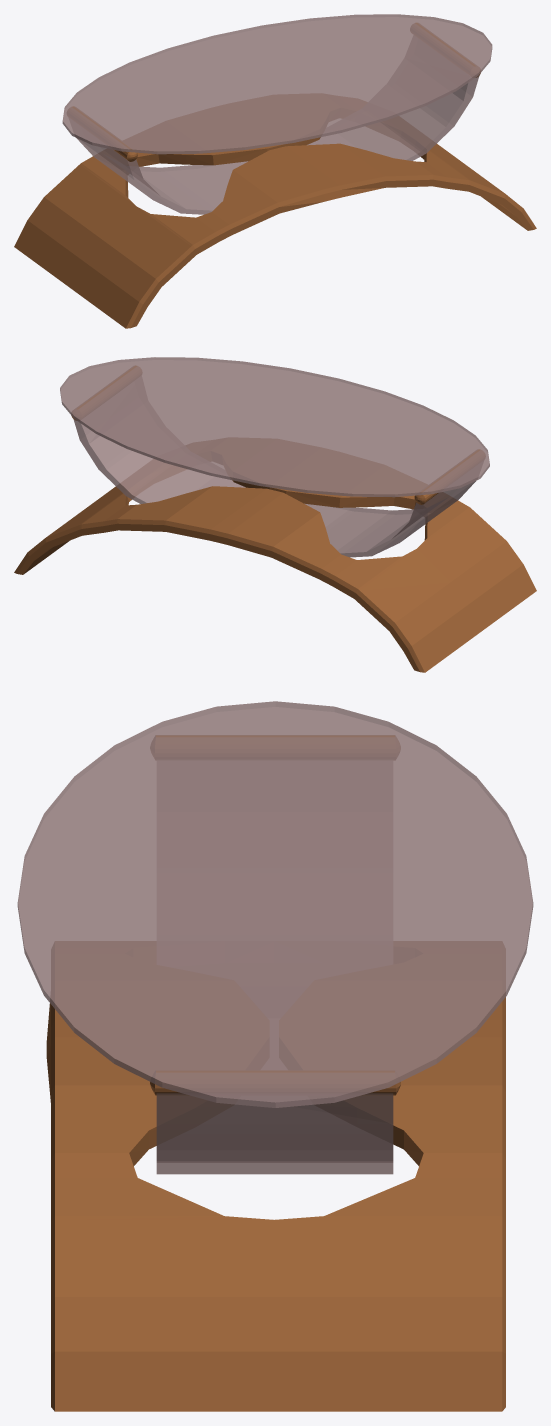
Rendered from sideglasstable.glb.
3 views of the same model, one above another, from view 1: azimuth 30°, elevation 25°; view 2: azimuth 150°, elevation 25°; view 3: azimuth 270°, elevation 25° (orthographic). The views are drawn at different scales.
Parts seen in each view (by area): view 1: Node; view 2: Node; view 3: Node.
Boxes of the visible parts, <box> form: Node: <box>14,14,536,328</box>; Node: <box>14,357,536,672</box>; Node: <box>17,701,533,1411</box>.
Bounding box in the file's own units: 50.54 × 18.18 × 27.35.
